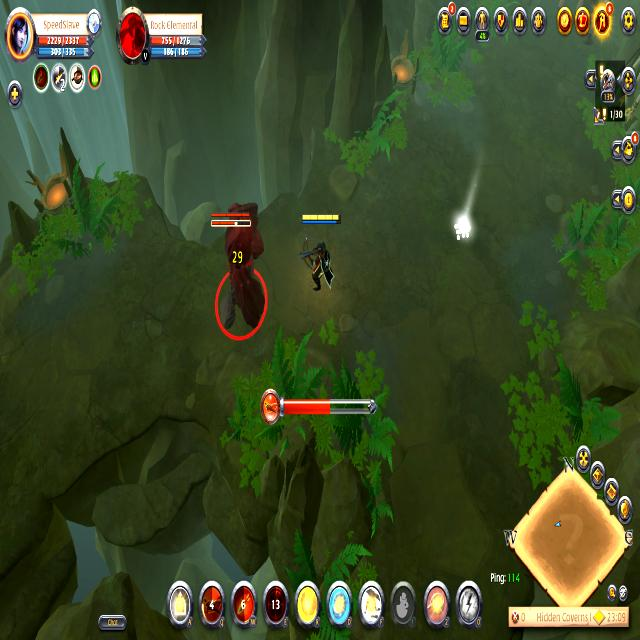ore: (204, 198, 268, 338)
red: (296, 207, 346, 300)
stone: (452, 211, 472, 249)
